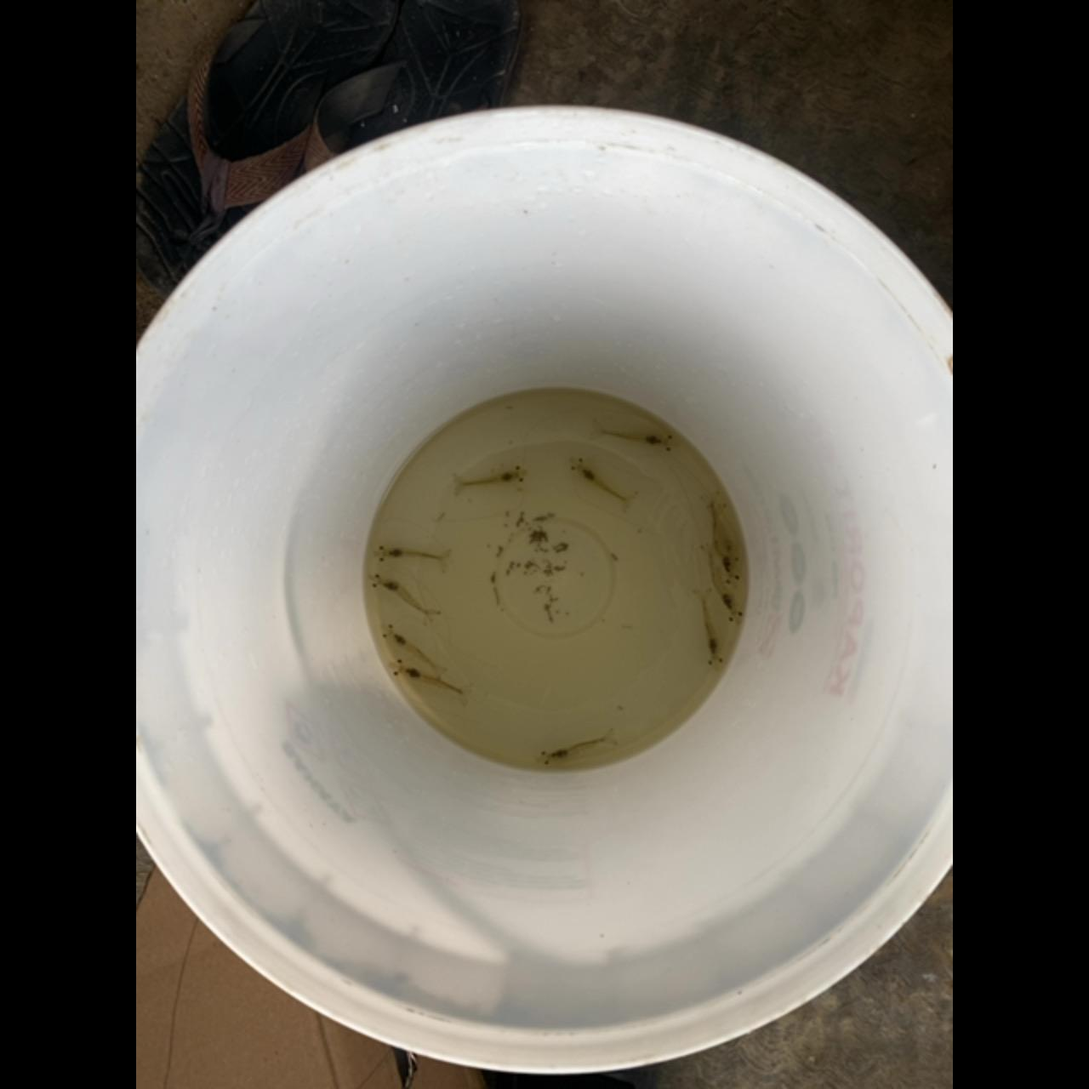round_base: (373, 391, 742, 764)
top_shrimp: (578, 465, 630, 503), (379, 577, 430, 615), (399, 664, 465, 693), (708, 500, 733, 574), (550, 735, 610, 760), (709, 551, 733, 613), (596, 430, 665, 447), (701, 593, 719, 656), (455, 471, 517, 486), (384, 548, 446, 560)
